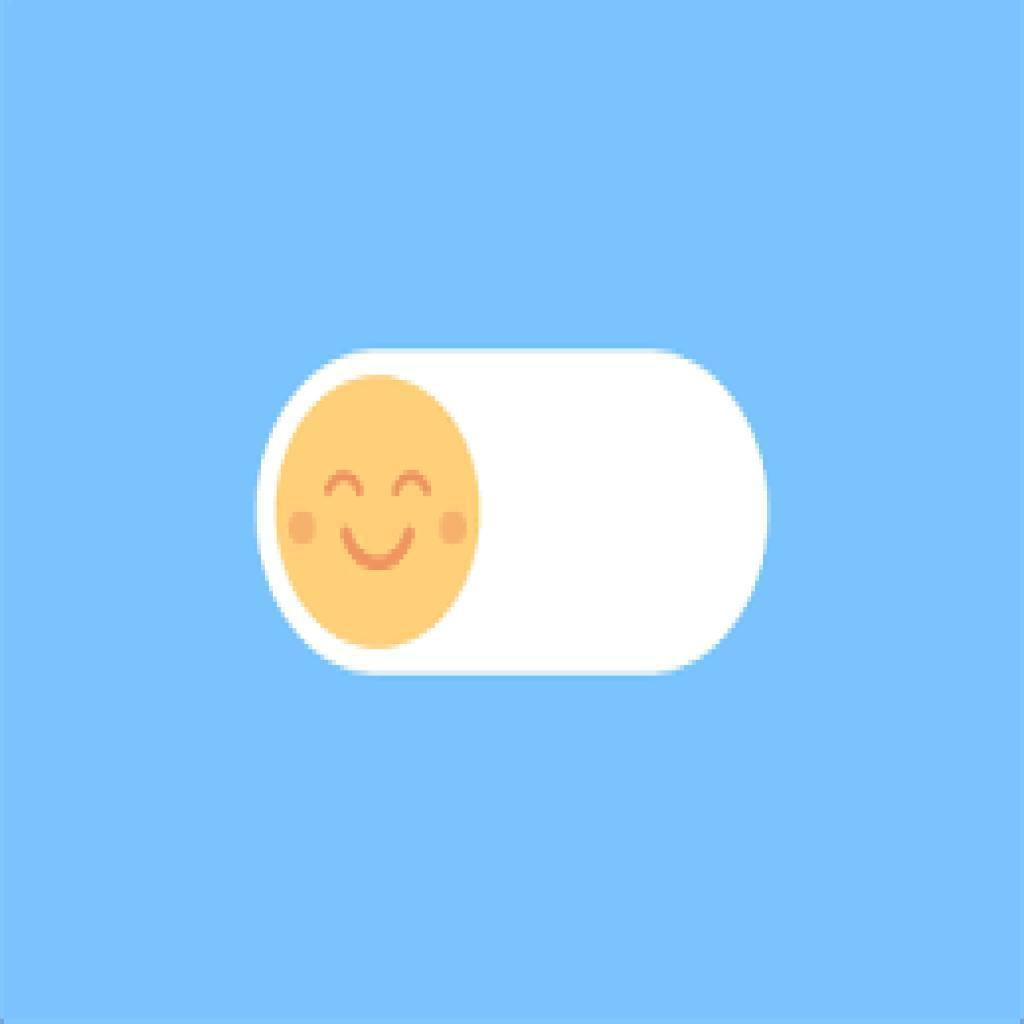switch: (257, 349, 770, 674)
